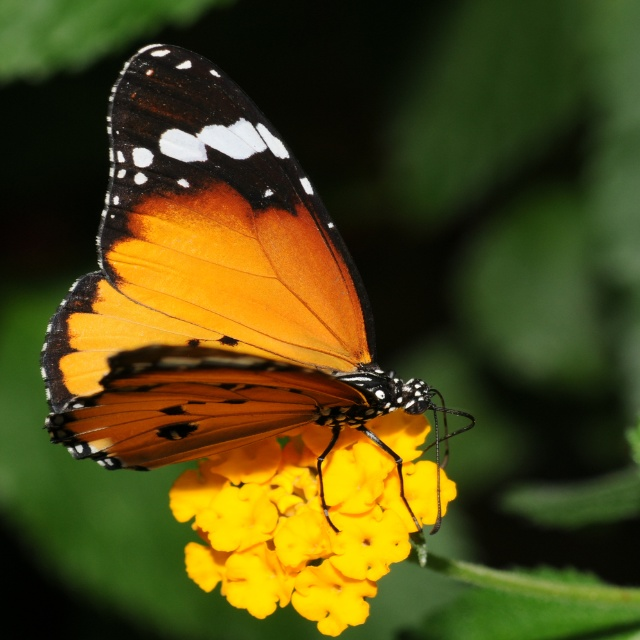Butterfly: (39, 41, 473, 558)
